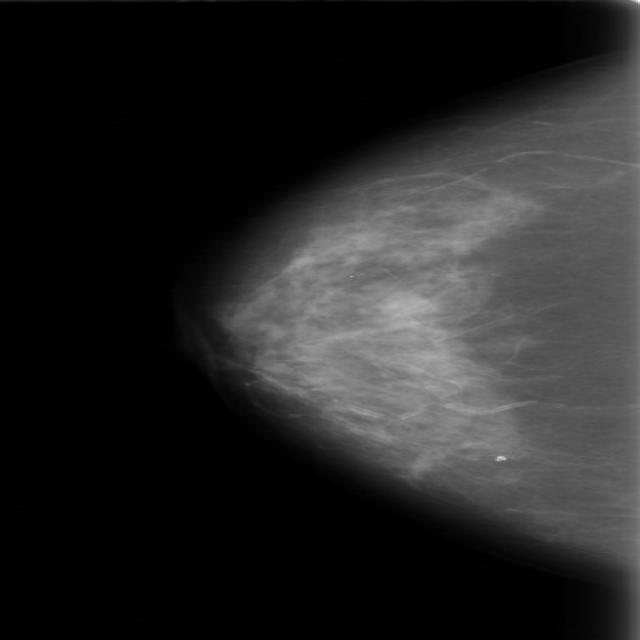tumour: (372, 289, 436, 319)
